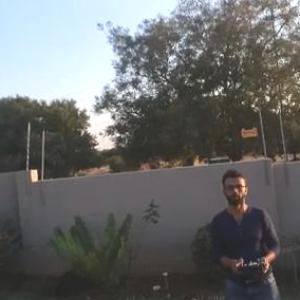follow: (205, 166, 288, 299)
